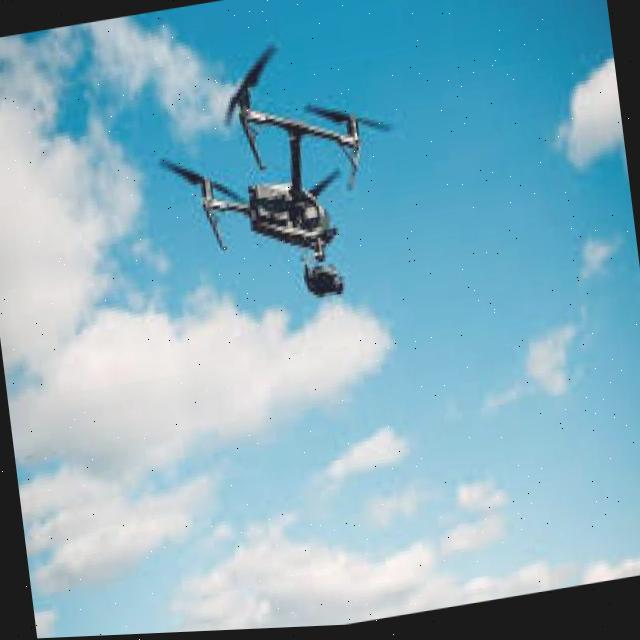drone: (150, 35, 418, 331)
